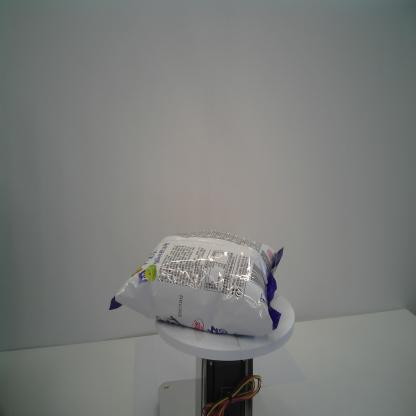Puffed Food: (108, 230, 284, 337)
